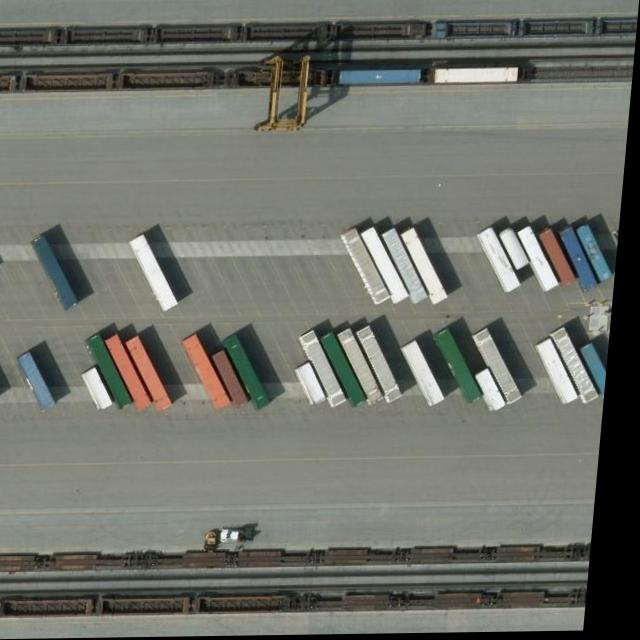vehicle: (229, 527, 266, 547)
